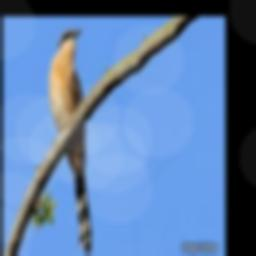Cuckoo: (49, 30, 91, 254)
